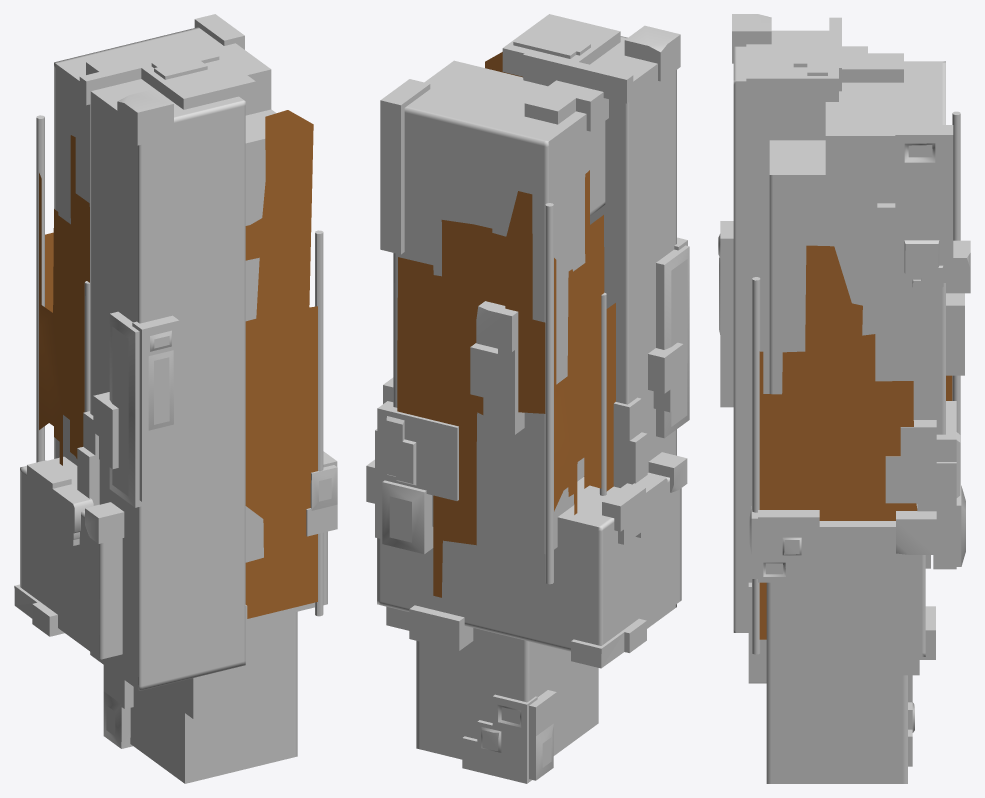
Rendered from VexArchitecture_02.fbx.
The picture shows the model from 3 angles, left to right: view 1: azimuth 30°, elevation 25°; view 2: azimuth 150°, elevation 25°; view 3: azimuth 270°, elevation 25°; orthographic projection. The views are drawn at different scales.
Parts seen in each view (by area): view 1: Mesh_0552.rip, Mesh_0488.rip, Mesh_0510.rip, Mesh_0511.rip; view 2: Mesh_0552.rip, Mesh_0510.rip, Mesh_0488.rip, Mesh_0511.rip; view 3: Mesh_0552.rip, Mesh_0510.rip, Mesh_0488.rip, Mesh_0511.rip.
Part boxes in pixels (left/top/right/bottom): Mesh_0552.rip: left=20, top=27, right=327, bottom=783; Mesh_0488.rip: left=39, top=110, right=317, bottom=618; Mesh_0510.rip: left=14, top=14, right=323, bottom=748; Mesh_0511.rip: left=85, top=451, right=337, bottom=543; Mesh_0552.rip: left=377, top=36, right=681, bottom=759; Mesh_0510.rip: left=366, top=14, right=689, bottom=783; Mesh_0488.rip: left=397, top=52, right=615, bottom=597; Mesh_0511.rip: left=648, top=452, right=687, bottom=492; Mesh_0552.rip: left=733, top=30, right=945, bottom=783; Mesh_0510.rip: left=718, top=14, right=970, bottom=766; Mesh_0488.rip: left=759, top=245, right=952, bottom=639; Mesh_0511.rip: left=749, top=506, right=819, bottom=582.
Bounding box in the file's own units: 70.17 × 196 × 64.93.
